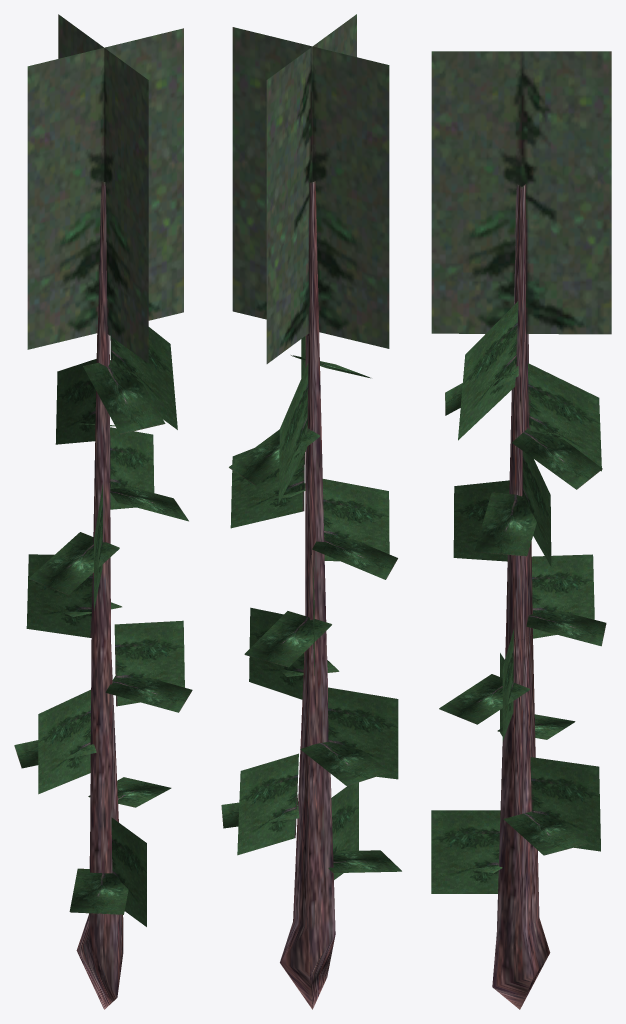
The model's file is frst_conf_redwood_lg_l2.fbx.
3 views of the same model, side by side, from view 1: azimuth 30°, elevation 25°; view 2: azimuth 150°, elevation 25°; view 3: azimuth 270°, elevation 25° (orthographic).
Visible parts, largest first — view 1: mesh_node; view 2: mesh_node; view 3: mesh_node.
Boxes of the visible parts, x1,y1,x2,y2 form: mesh_node: (14,14,192,1009); mesh_node: (221,14,401,1009); mesh_node: (431,51,611,1009).
Bounding box in the file's own units: 19.34 × 112 × 19.02.
